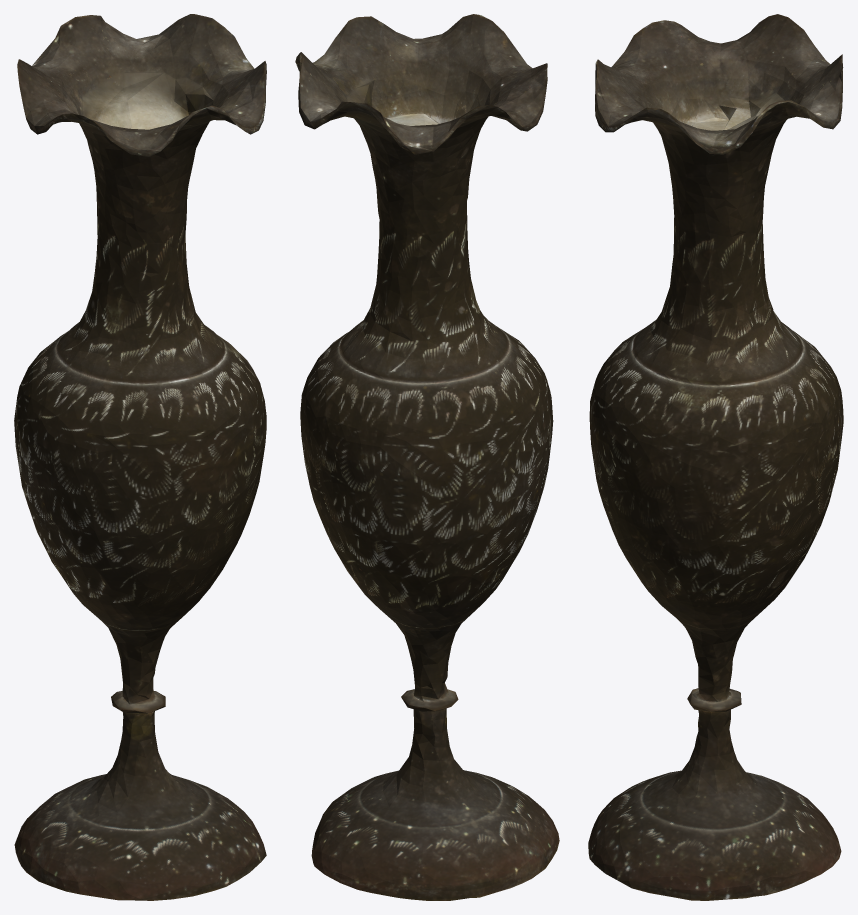
The model's file is BronceWeb.glb.
The picture shows the model from 3 angles, left to right: view 1: azimuth 30°, elevation 25°; view 2: azimuth 150°, elevation 25°; view 3: azimuth 270°, elevation 25°; orthographic projection.
Parts seen in each view (by area): view 1: Vase1_Model_5_4K; view 2: Vase1_Model_5_4K; view 3: Vase1_Model_5_4K.
Boxes of the visible parts, box(x1,y1,x2,y2) form: Vase1_Model_5_4K: box(14, 14, 266, 900); Vase1_Model_5_4K: box(295, 14, 559, 900); Vase1_Model_5_4K: box(588, 14, 843, 900).
Bounding box in the file's own units: 0.0749 × 0.2498 × 0.0725.
Materials: 1 (1 with a texture image).
